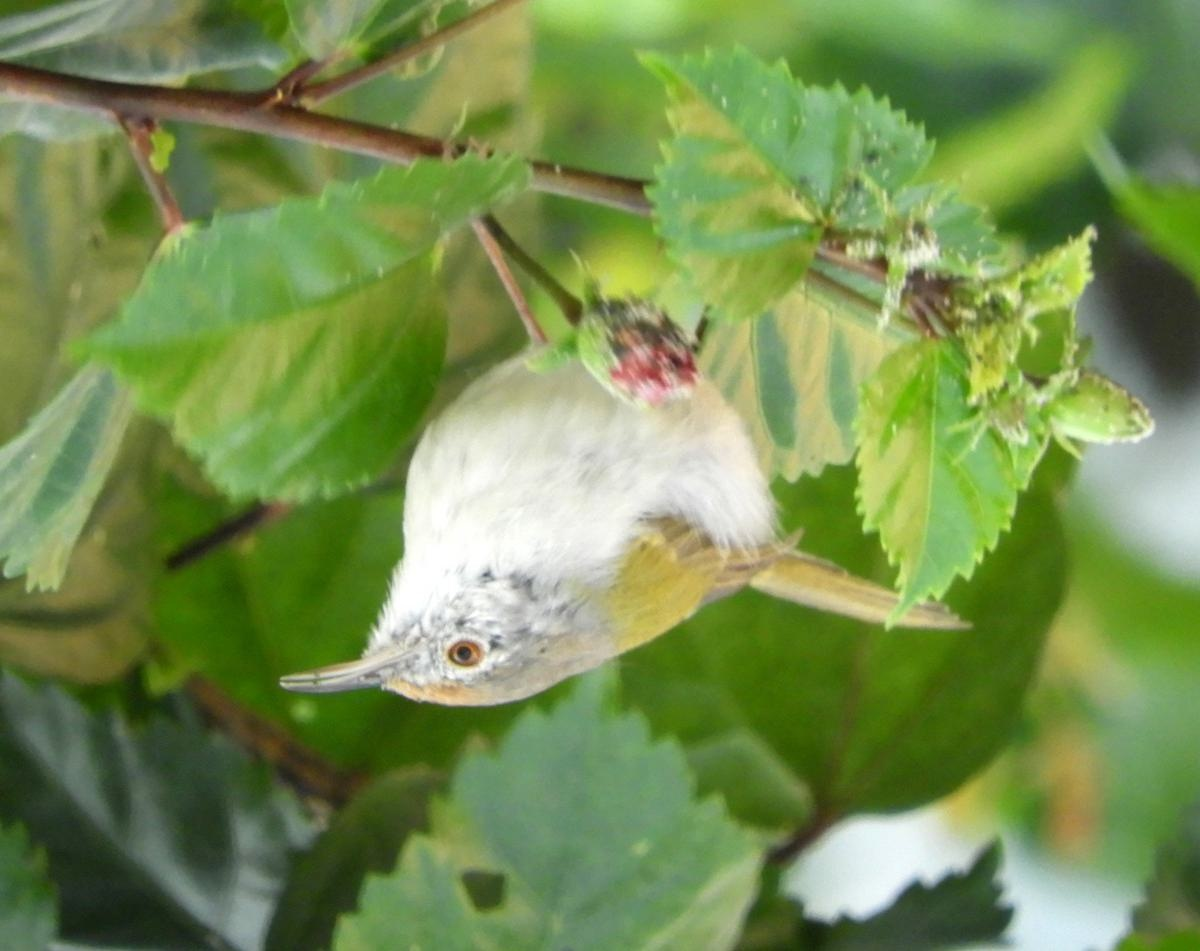tailorbird: (251, 277, 996, 748)
